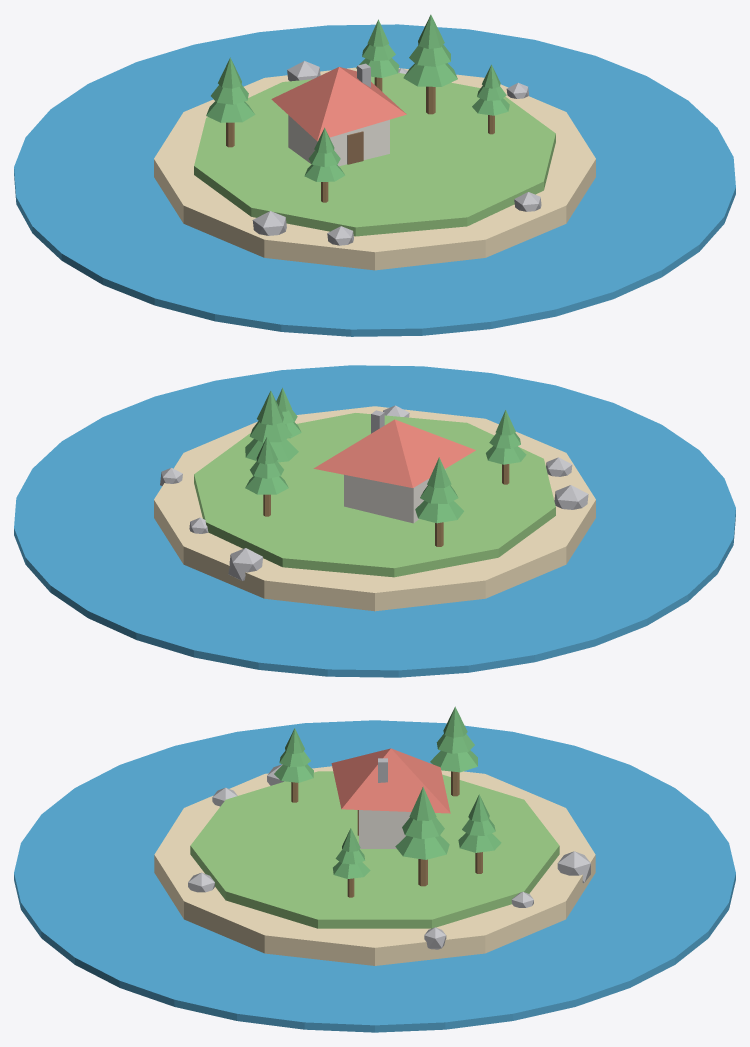
The model's file is ile.glb.
The picture shows the model from 3 angles, top to bottom: view 1: azimuth 30°, elevation 25°; view 2: azimuth 150°, elevation 25°; view 3: azimuth 270°, elevation 25°; orthographic projection.
Parts seen in each view (by area): view 1: Eau, Herbe, Sable, Toit, Maison, Feuillage, Feuillage.009, Feuillage.001, Rocher.001, Feuillage.010, Feuillage.012, Feuillage.002; view 2: Eau, Herbe, Sable, Toit, Maison, Feuillage.009, Rocher, Feuillage, Rocher.001, Feuillage.001, Feuillage.003, Feuillage.012 (+2 smaller); view 3: Eau, Herbe, Sable, Toit, Maison, Feuillage, Feuillage.009, Rocher, Feuillage.001, Feuillage.003, Feuillage.010, Feuillage.012.
Boxes of the visible parts, <box> form: Eau: <box>14,24,735,336</box>; Herbe: <box>194,72,555,236</box>; Sable: <box>154,67,595,270</box>; Toit: <box>271,67,406,141</box>; Maison: <box>288,115,389,166</box>; Feuillage: <box>403,63,457,86</box>; Feuillage.009: <box>206,101,254,122</box>; Feuillage.001: <box>409,44,450,66</box>; Rocher.001: <box>252,211,286,235</box>; Feuillage.010: <box>211,85,248,104</box>; Feuillage.012: <box>304,164,345,181</box>; Feuillage.002: <box>418,14,444,48</box>; Eau: <box>14,365,735,677</box>; Herbe: <box>194,413,555,577</box>; Sable: <box>154,406,595,611</box>; Toit: <box>313,419,475,487</box>; Maison: <box>344,469,445,523</box>; Feuillage.009: <box>415,500,463,523</box>; Rocher: <box>228,548,262,580</box>; Feuillage: <box>245,439,298,462</box>; Rocher.001: <box>554,485,588,509</box>; Feuillage.001: <box>250,421,292,442</box>; Feuillage.003: <box>245,476,288,494</box>; Feuillage.012: <box>486,446,526,464</box>; Eau: <box>14,720,735,1032</box>; Herbe: <box>190,771,559,928</box>; Sable: <box>154,766,595,965</box>; Toit: <box>331,748,450,813</box>; Maison: <box>359,810,411,848</box>; Feuillage: <box>395,835,449,859</box>; Feuillage.009: <box>430,750,477,772</box>; Rocher: <box>557,851,590,883</box>; Feuillage.001: <box>402,817,444,839</box>; Feuillage.003: <box>458,833,501,852</box>; Feuillage.010: <box>436,734,474,753</box>; Feuillage.012: <box>274,764,313,782</box>.
Size of the model in its own units: 18 by 3.65 by 18.
